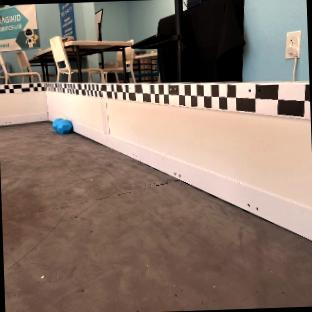V5_BLUE: (53, 118, 73, 134)
